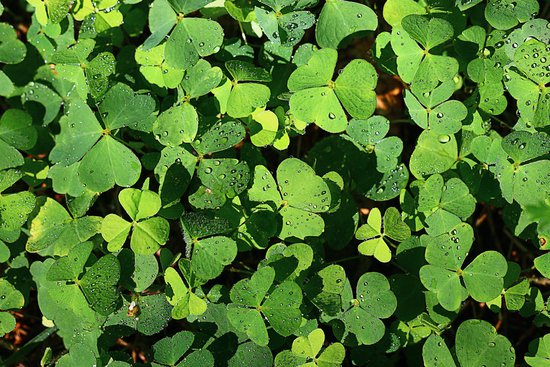oxalis: (21, 14, 535, 366)
